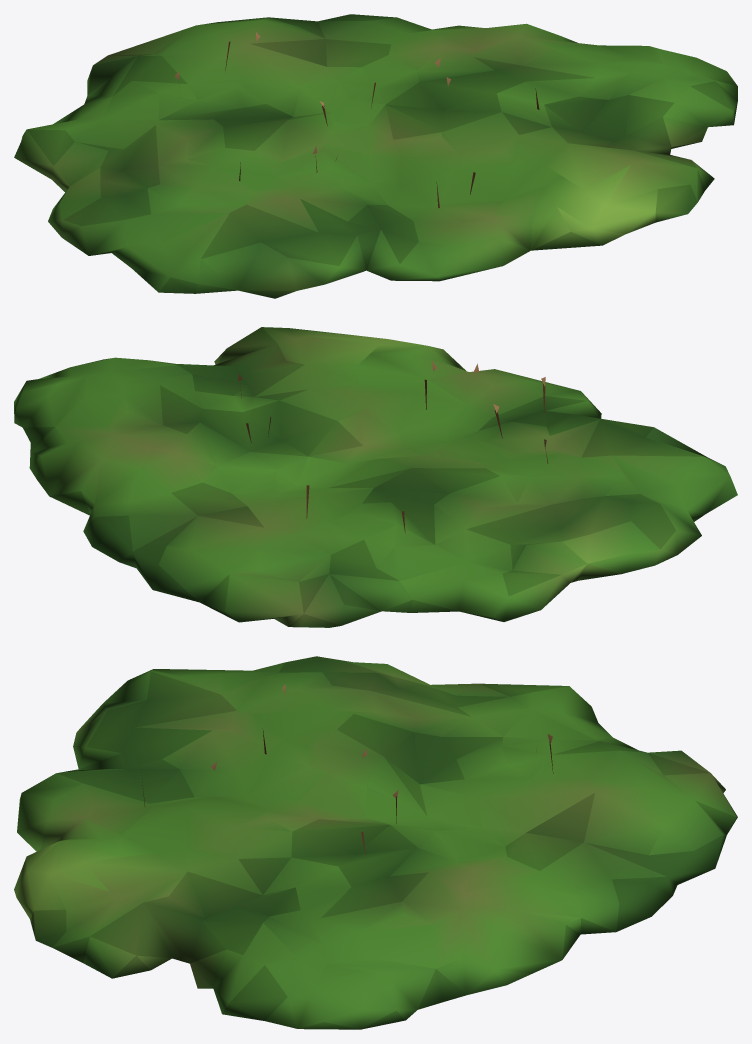
The model's file is canopy_gc_moss_b_lod1.glb.
3 renders of one model, top to bottom at view 1: azimuth 30°, elevation 25°; view 2: azimuth 150°, elevation 25°; view 3: azimuth 270°, elevation 25°, orthographic. The views are drawn at different scales.
Visible parts, largest first — view 1: canopy_gc_moss_b.001; view 2: canopy_gc_moss_b.001; view 3: canopy_gc_moss_b.001.
Part boxes in pixels (bbox=[...]): canopy_gc_moss_b.001: bbox=[14, 14, 737, 298]; canopy_gc_moss_b.001: bbox=[14, 327, 737, 627]; canopy_gc_moss_b.001: bbox=[14, 656, 737, 1029].
Bounding box in the file's own units: 8.45 × 0.996 × 7.08.
